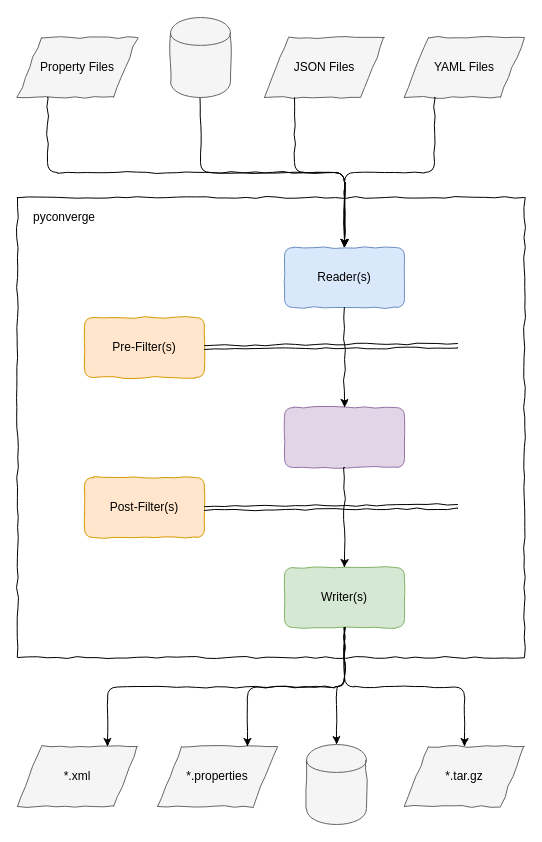
This 542x842 diagram has some shape labels left out. The shapes that lost their labels are listed below. From the top down, each one's centre as x and y in pixels, then its label:
point (200, 57): MySQL
point (344, 437): Resolver(s)
point (336, 784): Neo4j
